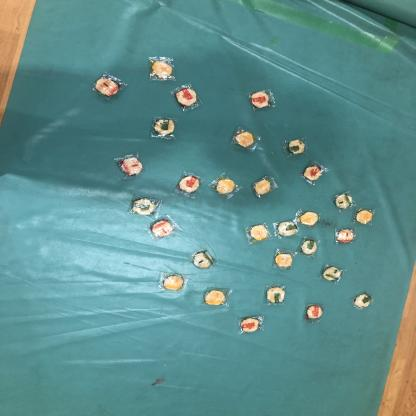green_setoshio: (126, 194, 163, 219), (184, 248, 220, 270), (330, 189, 358, 214), (151, 116, 178, 140), (281, 136, 310, 158), (349, 290, 377, 312), (318, 264, 346, 285), (265, 283, 289, 307), (274, 219, 302, 239), (298, 237, 321, 258)
red_setoshio: (89, 72, 128, 101), (170, 82, 202, 112), (115, 152, 148, 180), (174, 170, 204, 198), (149, 217, 181, 243), (234, 312, 268, 336), (247, 88, 279, 113), (300, 159, 328, 185), (301, 301, 329, 324), (331, 226, 360, 244)
yellow_setoshio: (142, 54, 175, 83), (210, 174, 244, 200), (231, 127, 264, 152), (157, 271, 190, 293), (252, 173, 278, 199), (273, 247, 299, 272), (203, 286, 232, 308), (295, 208, 323, 227), (247, 222, 270, 245), (353, 207, 378, 227)
